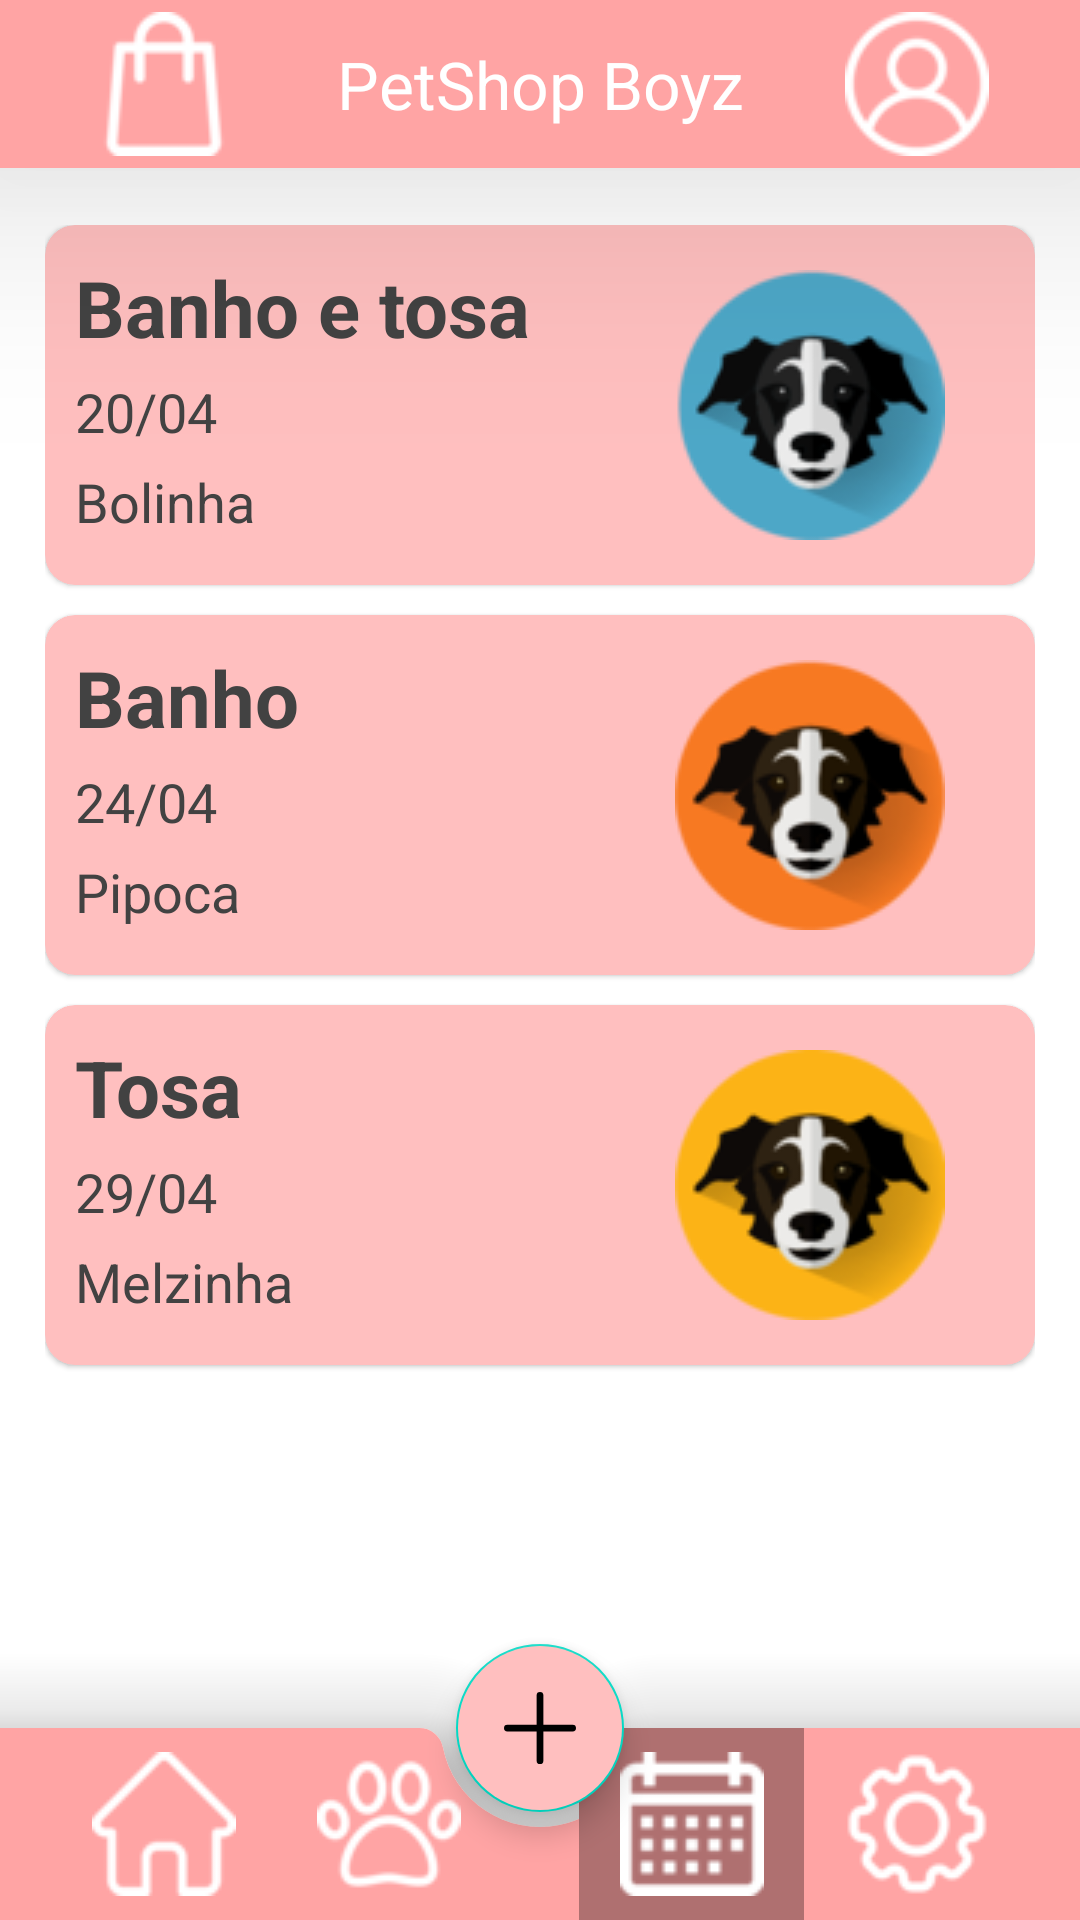

Icons on this 1080 × 1920 Android screen, each with the point to tap as (x,y):
add: (540,1728)
calendar: (691,1824)
home: (164,1824)
pet: (811,405), (810,795), (810,1185), (388,1824)
setting: (917,1824)
user: (917,84)
